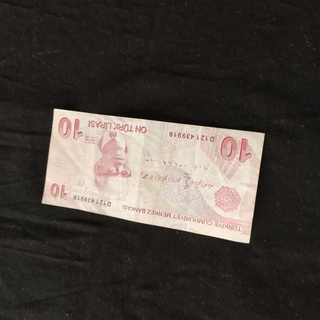10TLBack: (40, 106, 266, 244)
